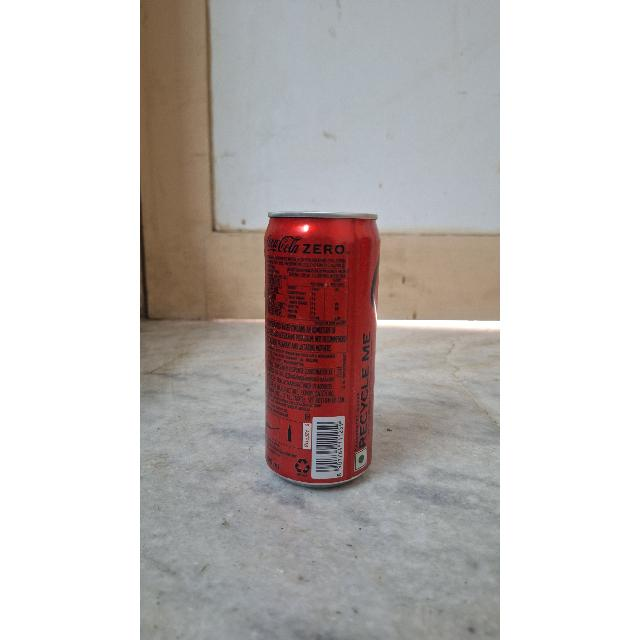Coca Cola Zero: (258, 213, 376, 485)
